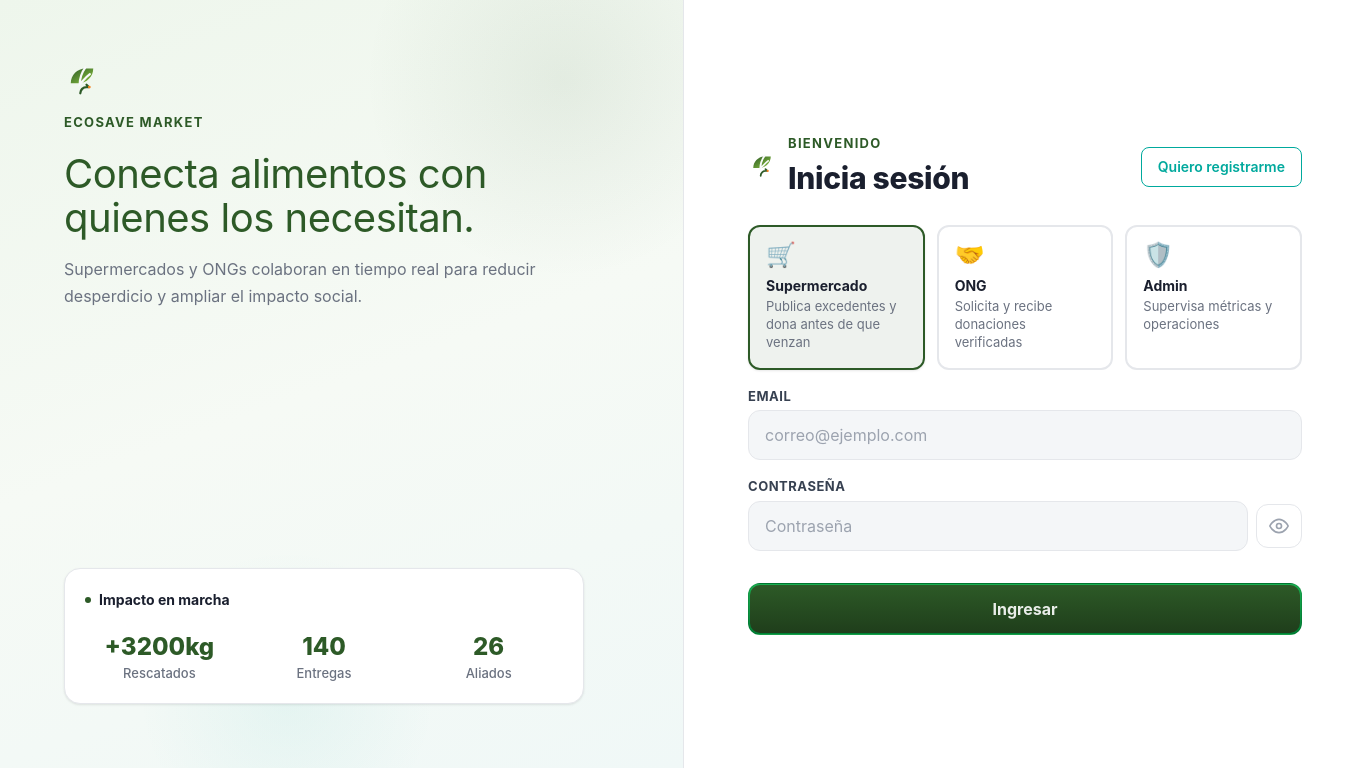
it: AuthForm — validaciones en modo registro › error cuando el teléfono es inválido
Click the button "Quiero registrarme" at point(1221, 167), box [1141,147,1302,187]
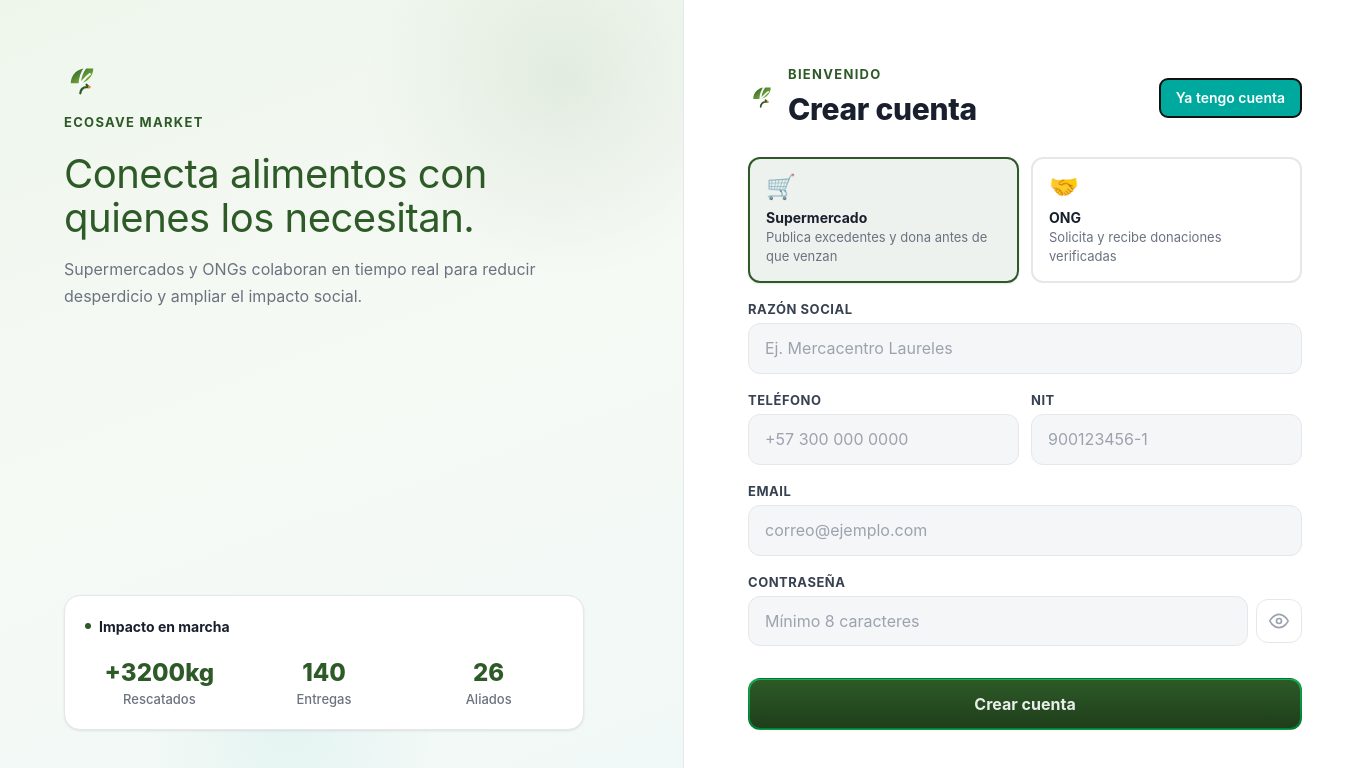
Type "Test" into the field with placeholder "Ej. Mercacentro Laureles" at point(1025, 348), box [748,323,1302,374]
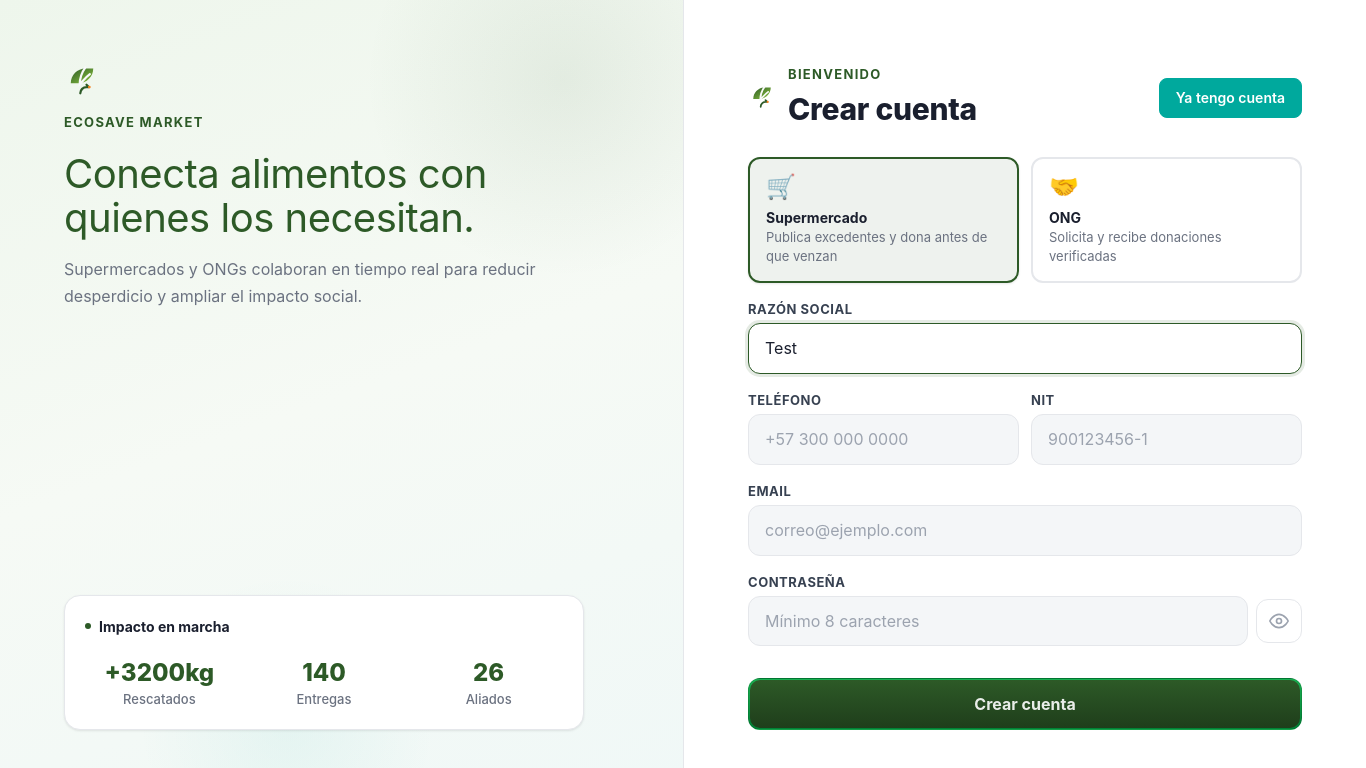
Type "abc" into the field with placeholder "+57 300 000 0000" at point(884, 439), box [748,414,1019,465]
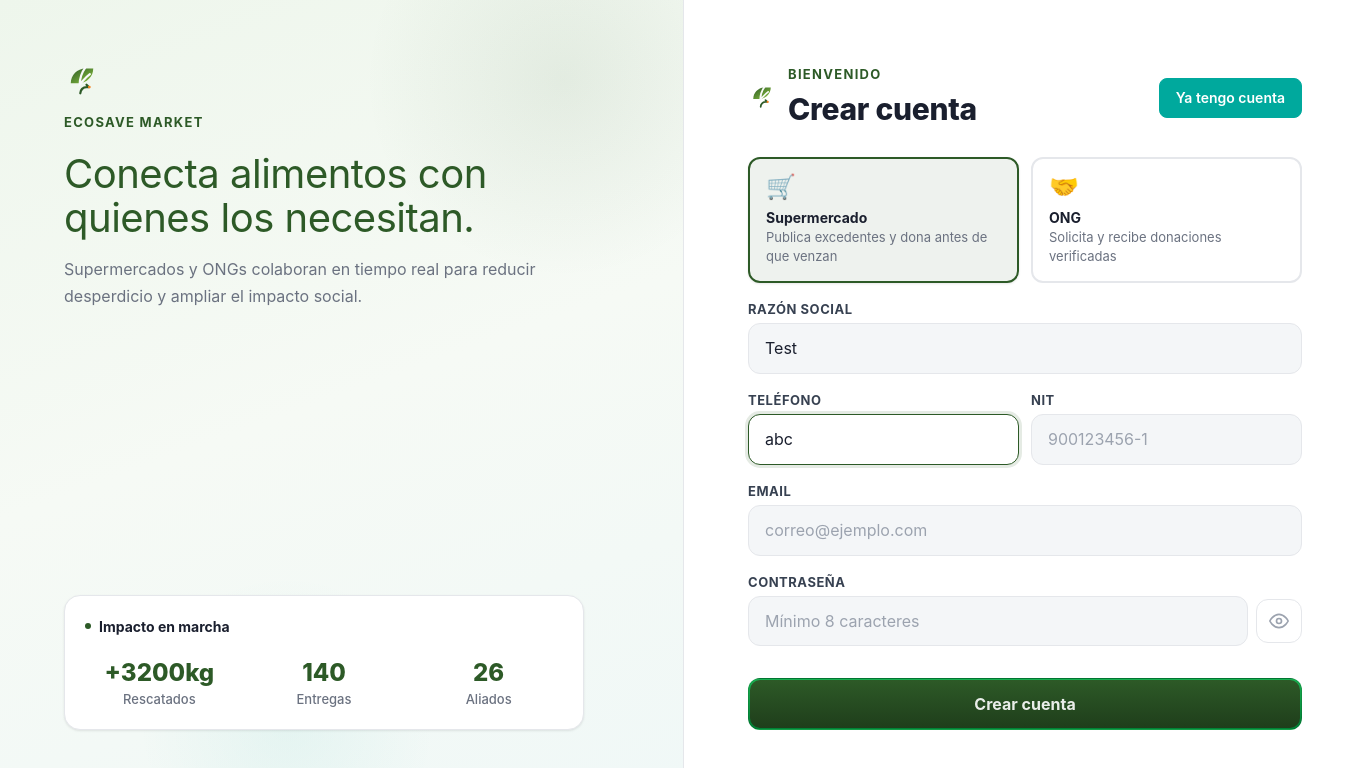
Type "x@x.com" into the field with placeholder "correo@ejemplo.com" at point(1025, 530), box [748,505,1302,556]
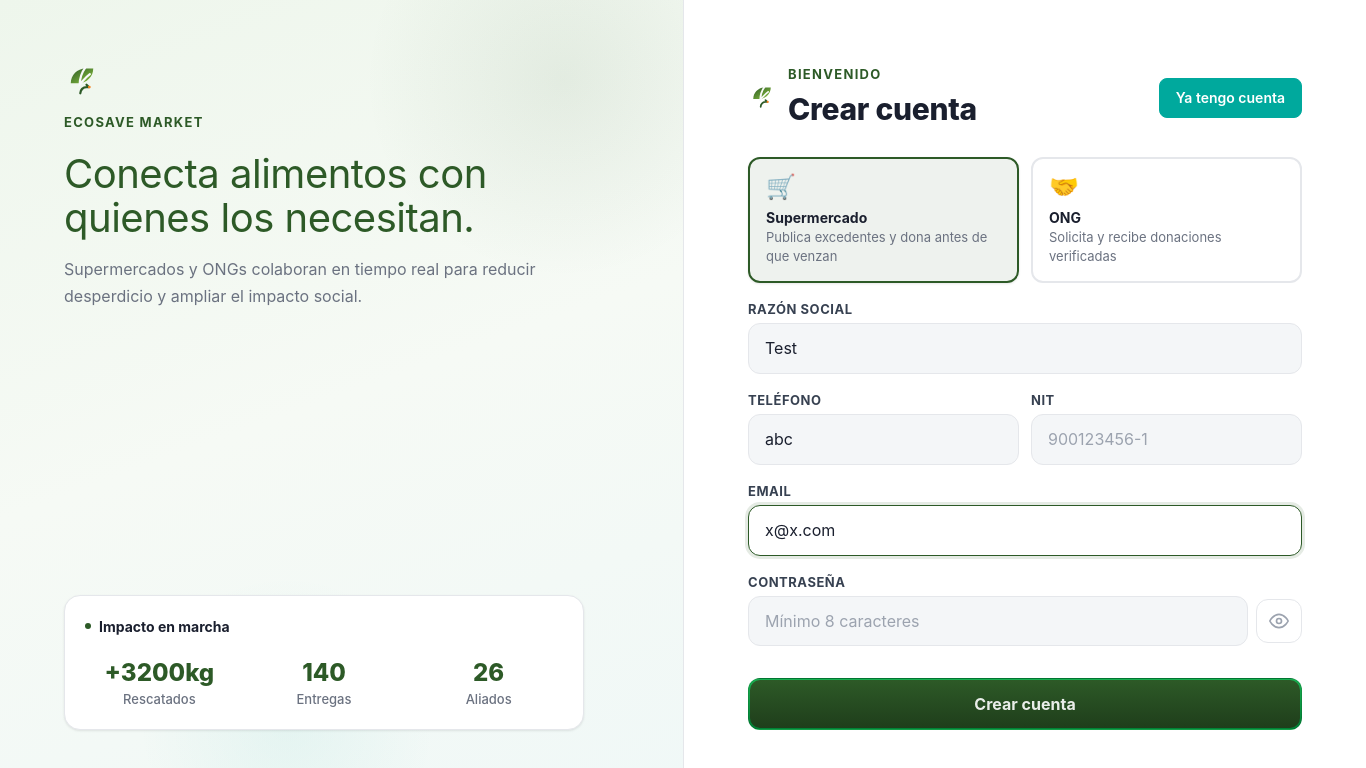
Type "Password1" into the password field with placeholder "Mínimo 8 caracteres" at point(998, 621), box [748,596,1248,646]
(page scrolled)
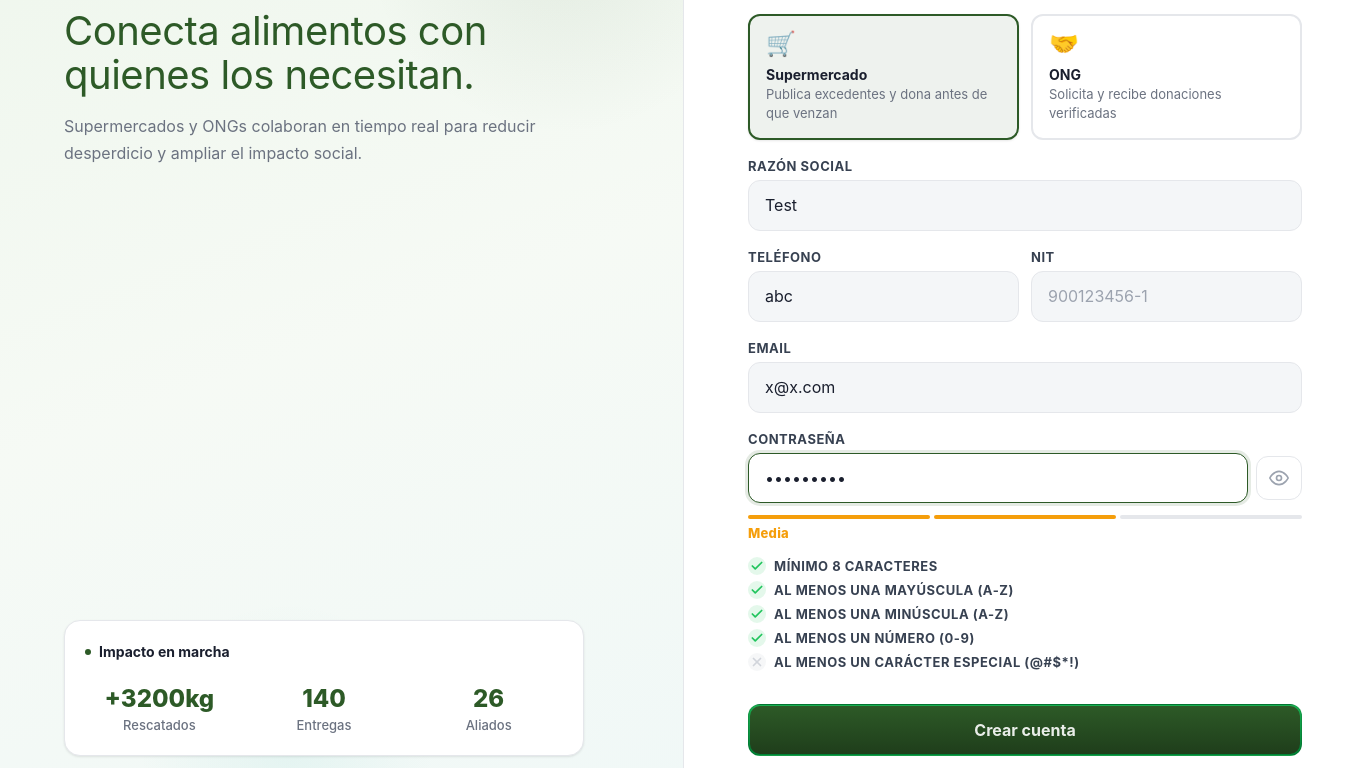
Submit the form named "crear cuenta", box [748,14,1302,756]
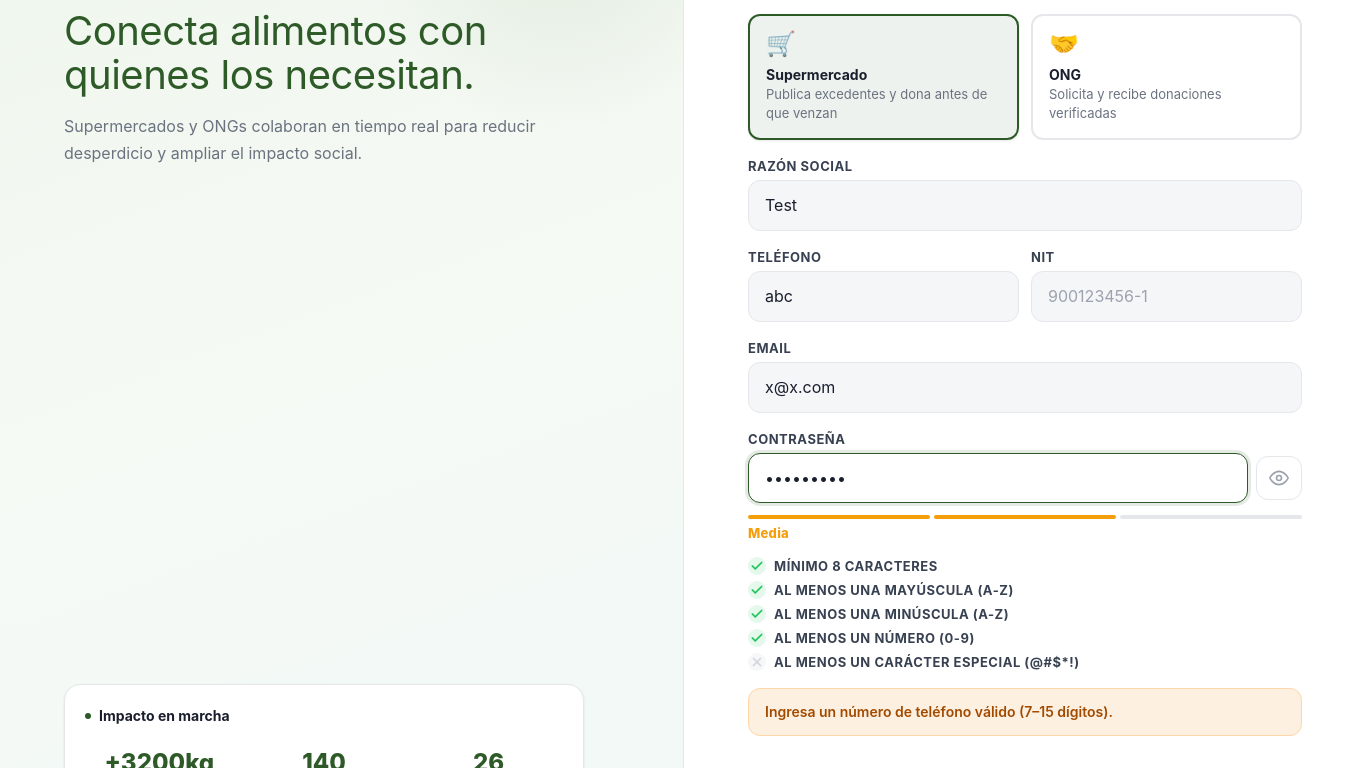
Expected: the text "Ingresa un número de teléfono válido (7–15 dígitos)." is shown, [748,688,1302,736]
